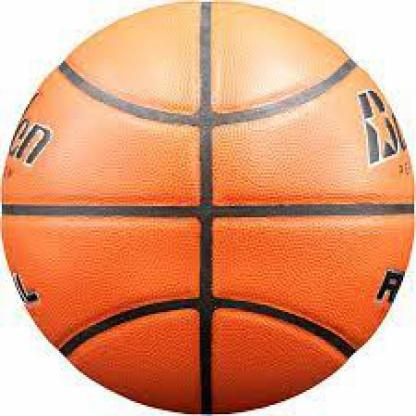basketball: (1, 1, 414, 414)
